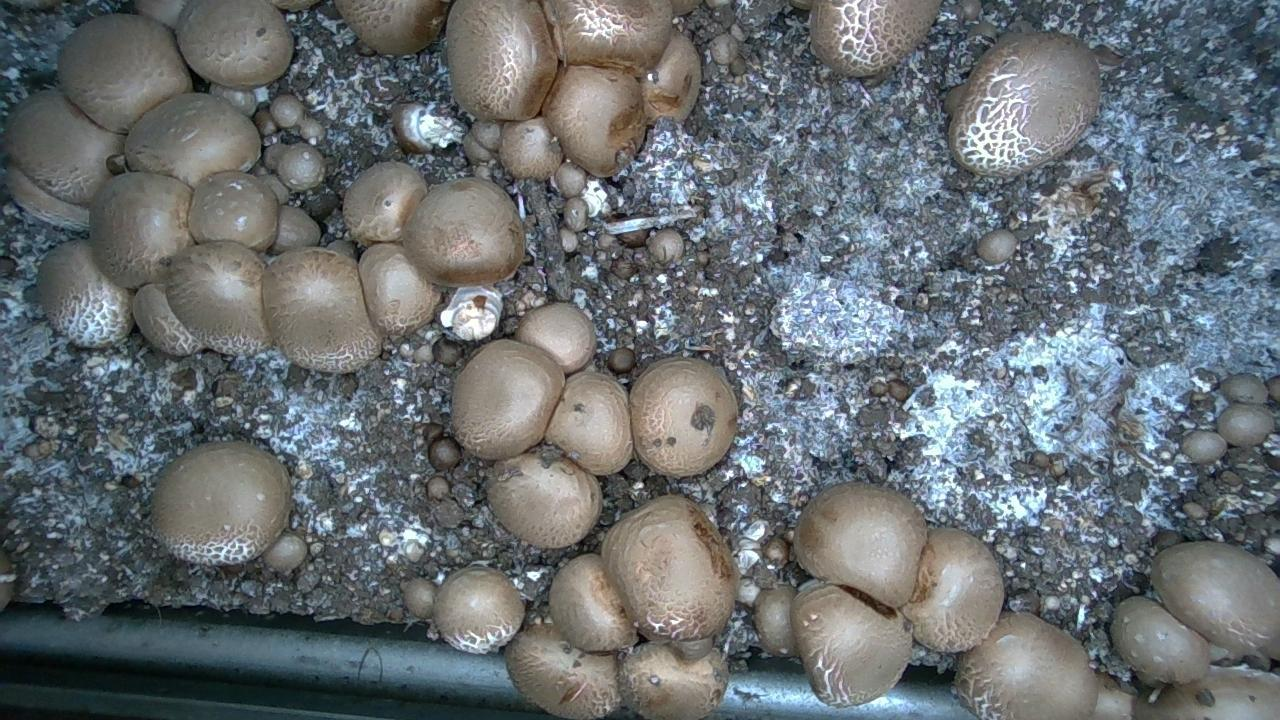BB: (949, 32, 1100, 176), (601, 495, 737, 640), (152, 442, 290, 564), (794, 482, 926, 607), (57, 14, 191, 133), (955, 612, 1097, 719), (262, 247, 381, 372), (1151, 541, 1279, 657), (791, 583, 911, 706), (5, 90, 124, 206), (446, 0, 557, 121), (402, 177, 524, 286), (452, 340, 563, 459), (629, 357, 737, 477), (124, 93, 260, 188), (902, 528, 1003, 652), (166, 241, 272, 354), (90, 171, 192, 288), (542, 65, 645, 176), (487, 451, 601, 547), (505, 624, 620, 718), (37, 240, 133, 347), (176, 0, 292, 88), (810, 0, 940, 76), (551, 0, 672, 77), (545, 371, 632, 474), (619, 641, 728, 719), (549, 554, 636, 651), (1111, 597, 1209, 683), (433, 566, 524, 653), (1135, 667, 1279, 719), (359, 243, 440, 335), (188, 171, 278, 250), (343, 161, 427, 245), (335, 0, 449, 55), (515, 303, 596, 374), (640, 32, 701, 124), (6, 164, 88, 230), (132, 284, 203, 356), (499, 118, 562, 180), (754, 585, 798, 656), (269, 205, 320, 253), (1217, 404, 1274, 446), (277, 142, 325, 191), (391, 101, 432, 152), (1090, 672, 1133, 719), (262, 534, 307, 571), (1181, 430, 1227, 463), (134, 0, 186, 29), (402, 578, 437, 619), (1220, 373, 1267, 403), (976, 229, 1016, 264), (427, 435, 462, 470), (648, 229, 683, 263), (553, 161, 586, 197), (270, 94, 304, 128), (470, 119, 501, 152), (432, 338, 463, 366), (563, 197, 587, 231), (763, 536, 789, 567), (1007, 590, 1040, 614), (606, 348, 636, 374), (2, 0, 64, 11), (737, 577, 760, 606)
